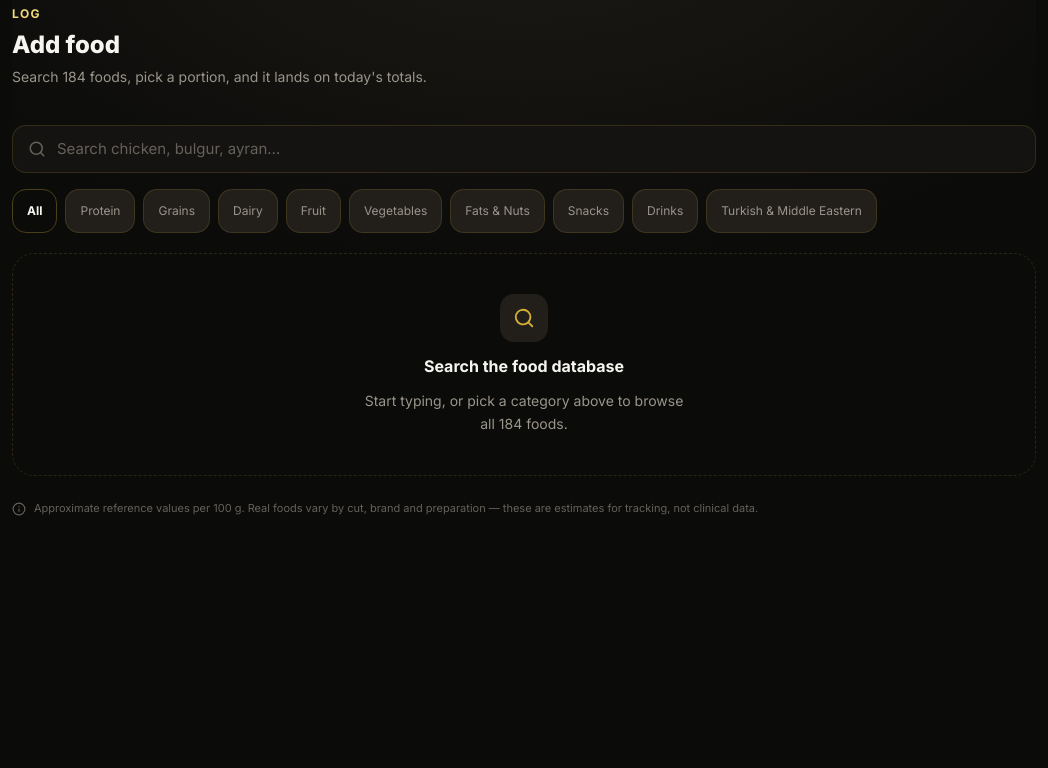
Test: LogScreen — search › shows an honest empty state for a query with no matches
Type "zzzznotafood" into the search field named "search foods".
click(524, 149); type("zzzznotafood")  # box top-left (12, 125), bottom-right (1036, 173)
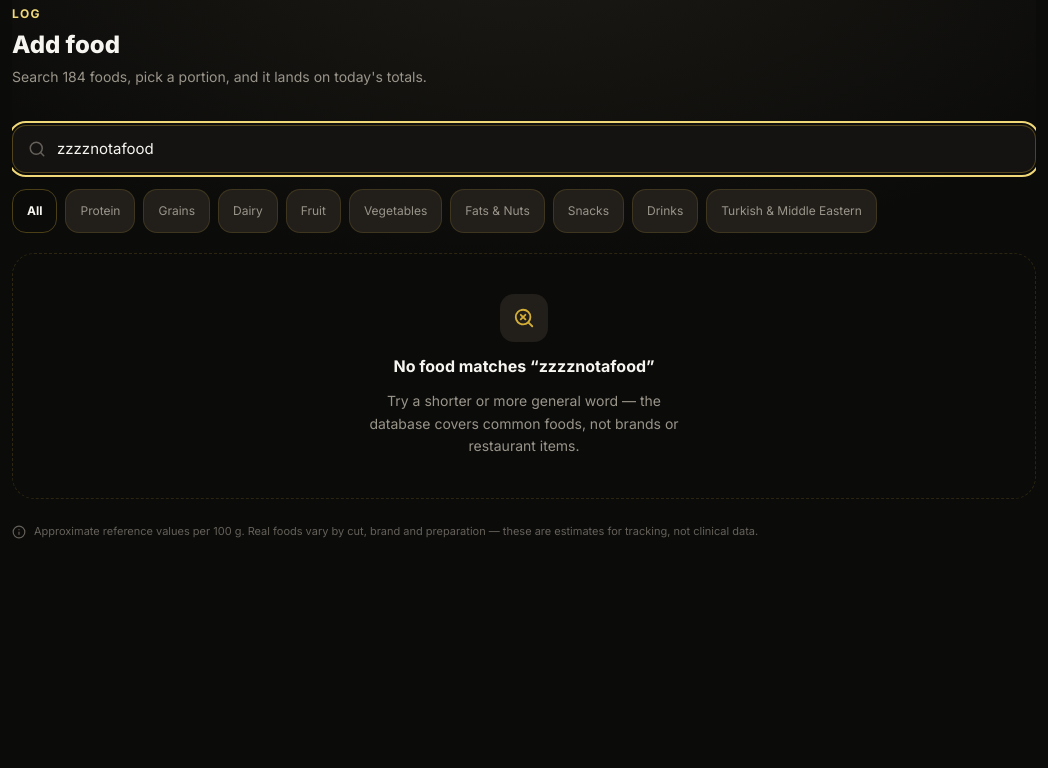
Expected: the heading "No food matches “zzzznotafood”" is shown, top-left (393, 354), bottom-right (654, 378)
